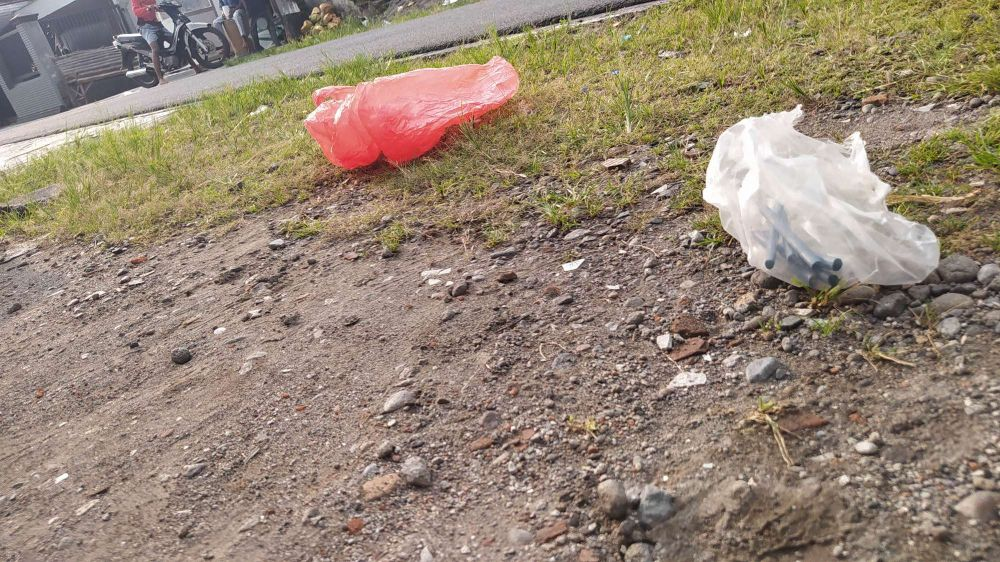plastik: (685, 100, 955, 290), (275, 75, 554, 169)
